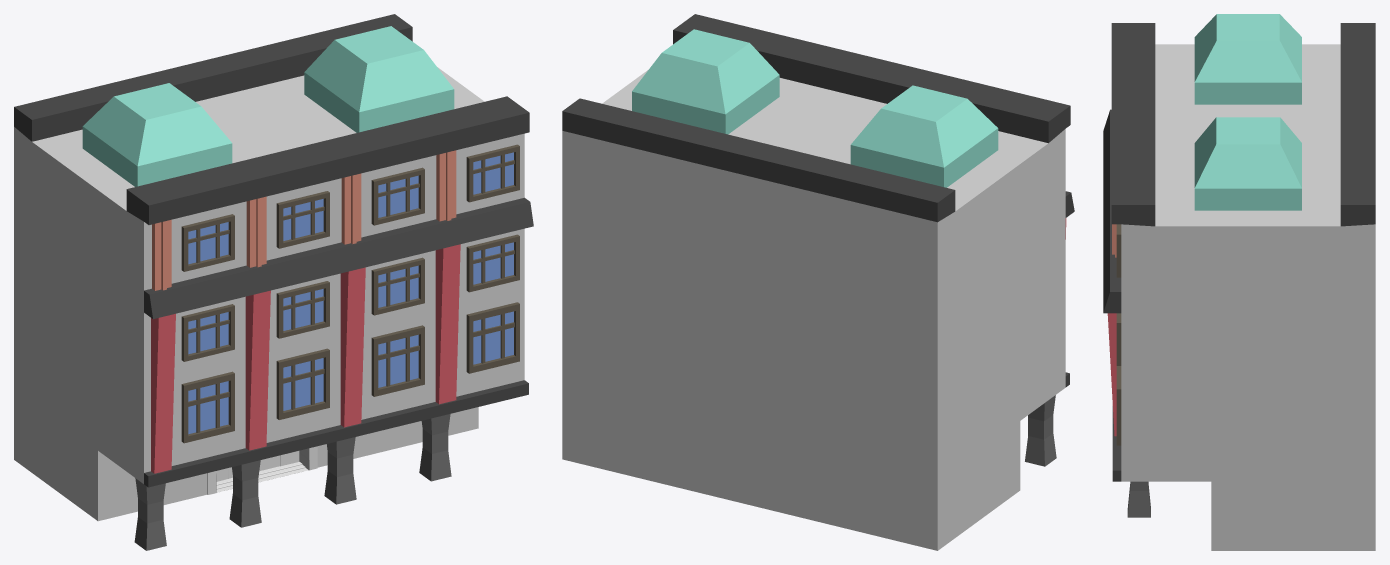
The model's file is PalazzoCentraleSXPorta.fbx.
3 renders of one model, left to right at view 1: azimuth 30°, elevation 25°; view 2: azimuth 150°, elevation 25°; view 3: azimuth 270°, elevation 25°, orthographic. The views are drawn at different scales.
Visible parts, largest first — view 1: PalazzoModCentraleSx, Line071; view 2: PalazzoModCentraleSx; view 3: PalazzoModCentraleSx.
Part boxes in pixels (x1=…): PalazzoModCentraleSx: x1=14, y1=14, x2=533, y2=550; Line071: x1=207, y1=446, x2=317, y2=494; PalazzoModCentraleSx: x1=562, y1=14, x2=1074, y2=550; PalazzoModCentraleSx: x1=1103, y1=14, x2=1375, y2=550.
Size of the model in its own units: 1695 by 1656 by 1072.
